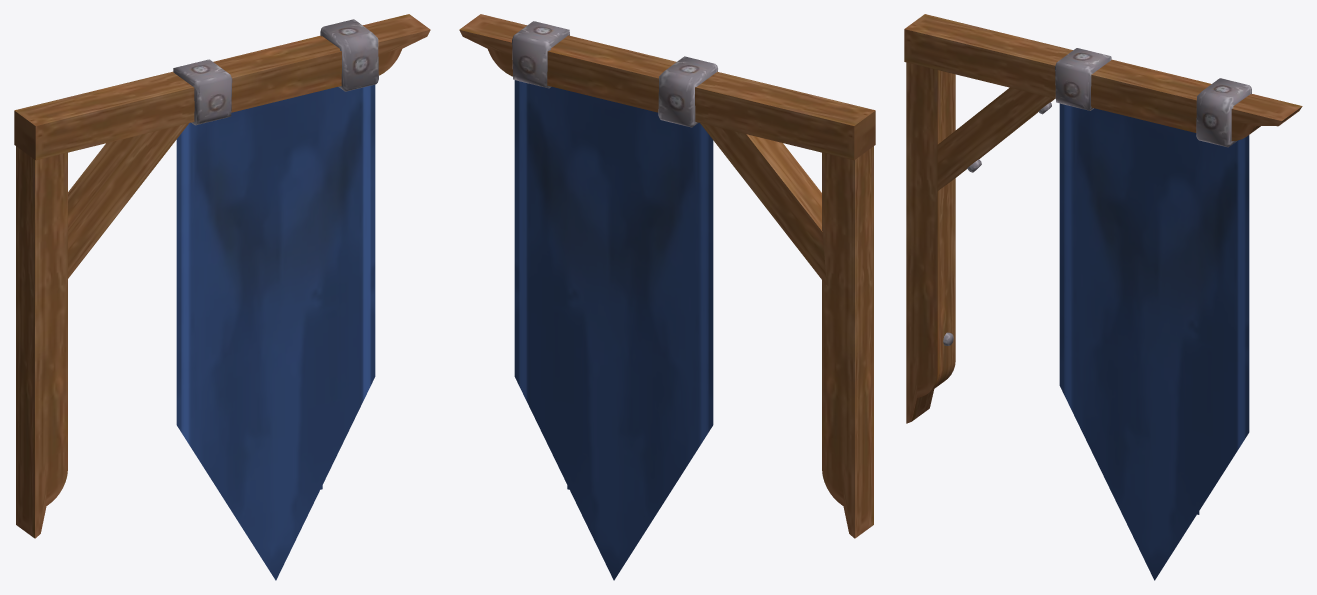
The model's file is Banner_2.gltf.
3 renders of one model, left to right at view 1: azimuth 30°, elevation 25°; view 2: azimuth 150°, elevation 25°; view 3: azimuth 330°, elevation 25°, orthographic. The views are drawn at different scales.
Parts seen in each view (by area): view 1: Banner_2; view 2: Banner_2; view 3: Banner_2.
Boxes of the visible parts, <box> form: Banner_2: <box>14,14,430,580</box>; Banner_2: <box>459,14,875,580</box>; Banner_2: <box>904,14,1302,580</box>.
Bounding box in the file's own units: 1.61 × 2.08 × 0.1906.
Materials: 3 (3 with a texture image).
